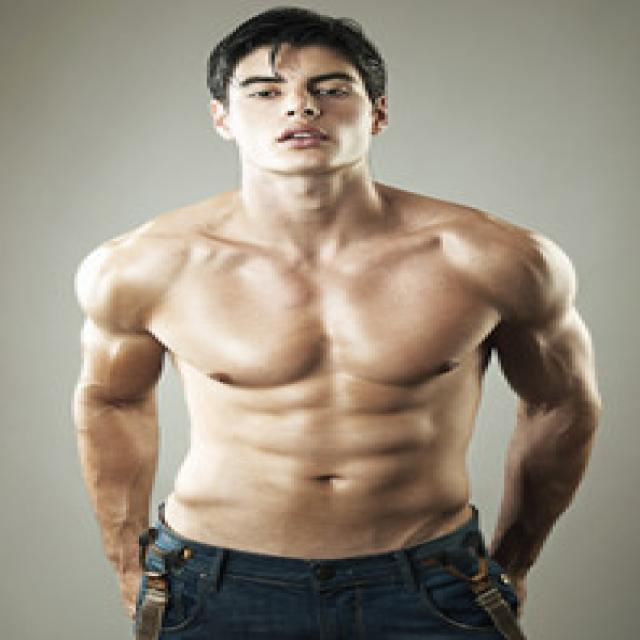human: (68, 4, 612, 640)
